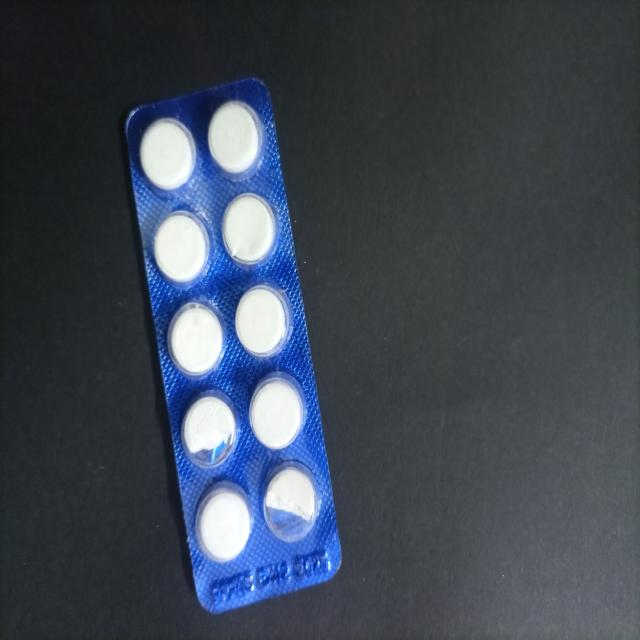defect: (178, 388, 242, 472), (262, 460, 322, 544)
